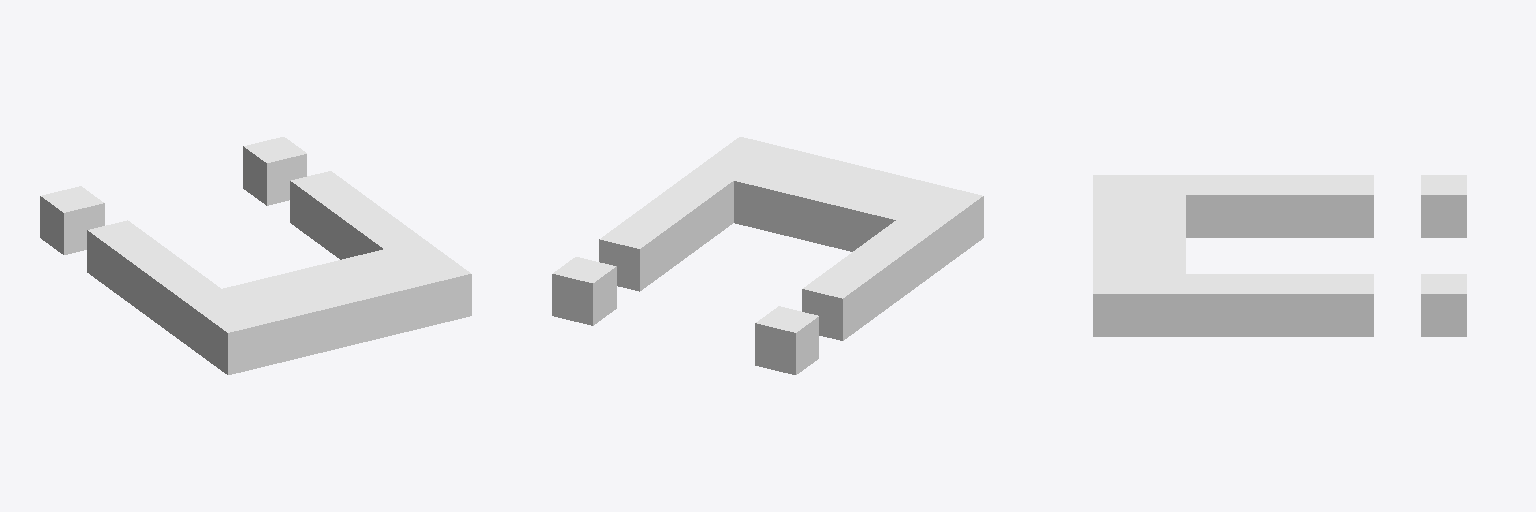
File: Body-53-InfraredFurtive_ThrusterFire1.obj
3 renders of one model, left to right at view 1: azimuth 30°, elevation 25°; view 2: azimuth 150°, elevation 25°; view 3: azimuth 270°, elevation 25°, orthographic.
Visible parts, largest first — view 1: InfraredFurtive_ThrusterFire1; view 2: InfraredFurtive_ThrusterFire1; view 3: InfraredFurtive_ThrusterFire1.
Part boxes in pixels (x1,y1,x2,y2): InfraredFurtive_ThrusterFire1: (40, 137, 471, 374); InfraredFurtive_ThrusterFire1: (552, 137, 983, 374); InfraredFurtive_ThrusterFire1: (1093, 175, 1466, 336).
Bounding box in the file's own units: 0.6 × 0.1 × 0.8.